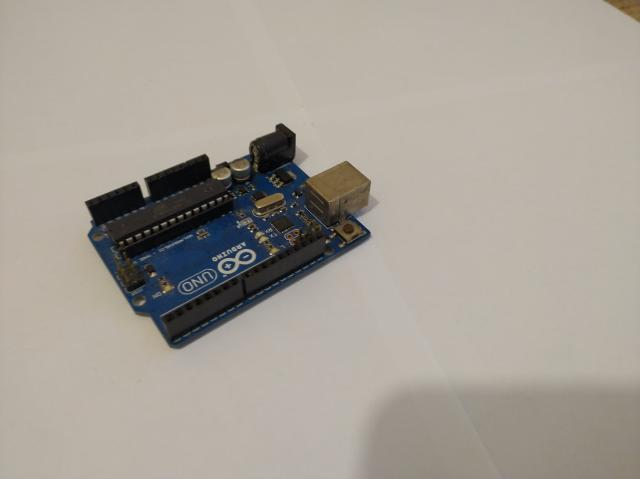arduino: (85, 124, 372, 344)
